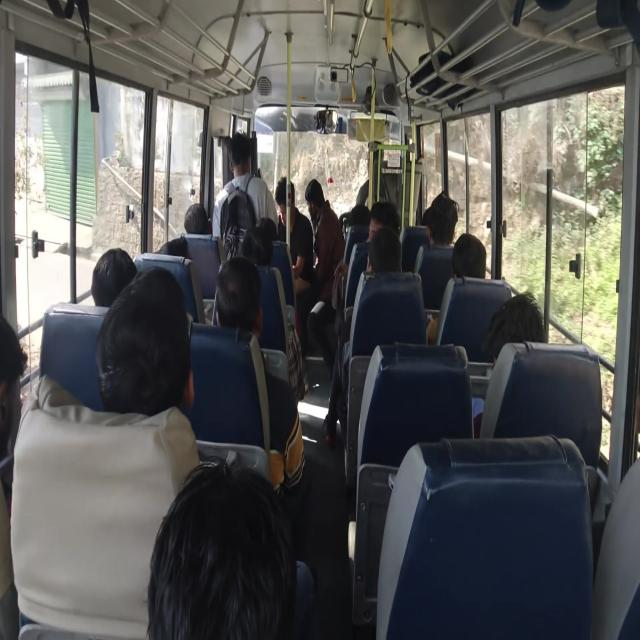person: (10, 266, 200, 638), (146, 457, 311, 639), (212, 254, 305, 493), (322, 226, 402, 446), (95, 266, 195, 417), (471, 291, 546, 437), (0, 314, 28, 638), (212, 131, 278, 260), (304, 178, 346, 366), (426, 232, 487, 344), (274, 175, 313, 295), (212, 255, 262, 339), (91, 247, 137, 307), (422, 192, 458, 247), (451, 232, 487, 280), (365, 200, 400, 244), (184, 203, 209, 234)
